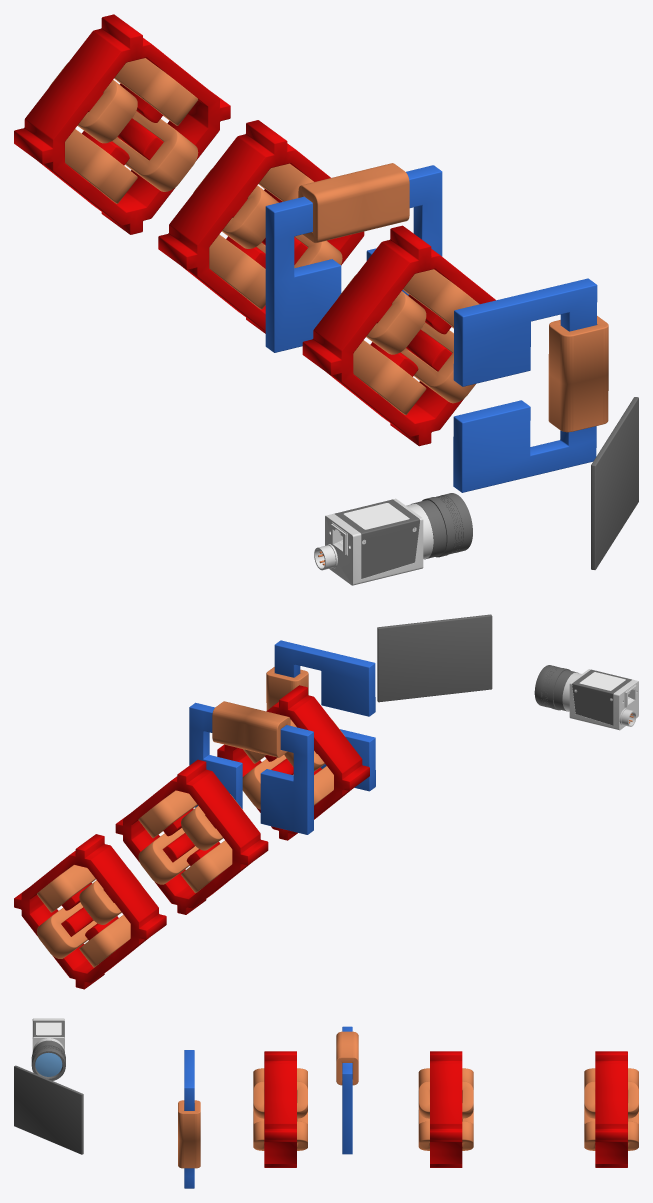
3 views of the same model, one above another, from view 1: azimuth 30°, elevation 25°; view 2: azimuth 150°, elevation 25°; view 3: azimuth 270°, elevation 25° (orthographic). The views are drawn at different scales.
Visible parts, largest first — view 1: horizontal_corrector.glb_1, quadrupole.glb, quadrupole.glb_8, quadrupole.glb_4, quadrupole.glb_1, vertical_corrector.glb, quadrupole.glb_9, quadrupole.glb_5, vertical_corrector.glb_1, horizontal_corrector.glb, screen.glb_1, screen.glb_5 (+7 smaller); view 2: screen.glb_5, quadrupole.glb, quadrupole.glb_4, vertical_corrector.glb, quadrupole.glb_5, quadrupole.glb_1, horizontal_corrector.glb_1, quadrupole.glb_8, vertical_corrector.glb_1, screen.glb_1, quadrupole.glb_9, screen.glb (+4 smaller); view 3: screen.glb_5, quadrupole.glb_8, quadrupole.glb, quadrupole.glb_4, quadrupole.glb_5, quadrupole.glb_9, quadrupole.glb_1, horizontal_corrector.glb, vertical_corrector.glb, vertical_corrector.glb_1, screen.glb_1, horizontal_corrector.glb_1 (+9 smaller).
Part boxes in pixels (x1,y1,x2,y2): horizontal_corrector.glb_1: (453, 278, 597, 492); quadrupole.glb: (14, 14, 230, 234); quadrupole.glb_8: (302, 225, 495, 446); quadrupole.glb_4: (158, 120, 364, 333); quadrupole.glb_1: (49, 58, 198, 203); vertical_corrector.glb: (265, 165, 442, 352); quadrupole.glb_9: (338, 269, 479, 414); quadrupole.glb_5: (193, 163, 342, 309); vertical_corrector.glb_1: (298, 163, 409, 243); horizontal_corrector.glb: (548, 316, 608, 432); screen.glb_1: (334, 493, 472, 578); screen.glb_5: (591, 397, 638, 569); screen.glb_5: (377, 614, 492, 702); quadrupole.glb: (14, 834, 166, 989); quadrupole.glb_4: (115, 759, 268, 914); vertical_corrector.glb: (189, 703, 313, 834); quadrupole.glb_5: (138, 790, 242, 892); quadrupole.glb_1: (37, 865, 141, 967); horizontal_corrector.glb_1: (275, 640, 375, 791); quadrupole.glb_8: (217, 685, 369, 840); vertical_corrector.glb_1: (212, 701, 290, 757); screen.glb_1: (534, 665, 631, 725); quadrupole.glb_9: (242, 720, 344, 809); screen.glb: (562, 669, 638, 730); screen.glb_5: (14, 1065, 83, 1154); quadrupole.glb_8: (264, 1051, 296, 1167); quadrupole.glb: (595, 1051, 627, 1167); quadrupole.glb_4: (430, 1051, 462, 1167); quadrupole.glb_5: (418, 1068, 473, 1150); quadrupole.glb_9: (253, 1068, 307, 1150); quadrupole.glb_1: (584, 1068, 638, 1150); horizontal_corrector.glb: (178, 1100, 200, 1168); vertical_corrector.glb: (342, 1026, 352, 1154); vertical_corrector.glb_1: (336, 1031, 358, 1085); screen.glb_1: (31, 1020, 65, 1080); horizontal_corrector.glb_1: (184, 1050, 194, 1188).
Bounding box in the file's own units: 0.8756 × 0.4481 × 2.08.
